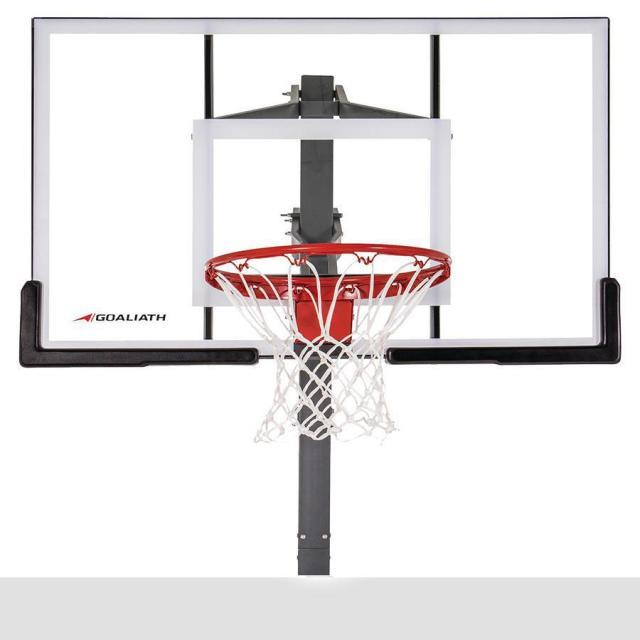hoop: (206, 243, 452, 442)
